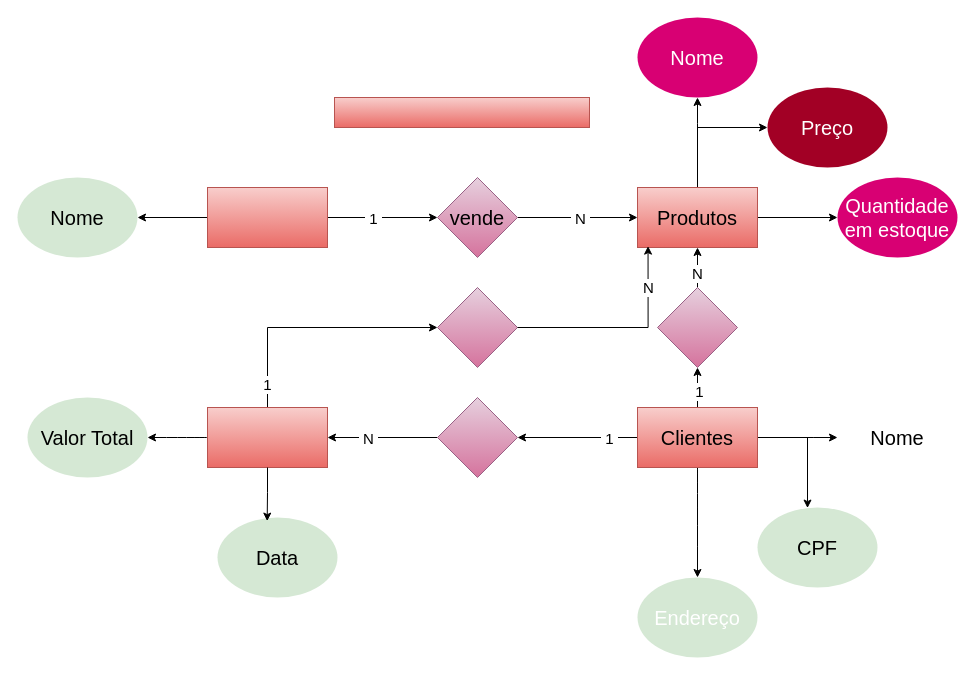
Image size: 974x674. Some labels were removed from this diagram. The shapes that lost their labels are listed below. From the top down, each one's centre as x and y in pixels, then its label:
At point 462,112: "Loja online -modelo logico".
At point 267,217: "Loja".
At point 477,327: "Tem".
At point 697,327: "Compra".
At point 267,437: "Compras".
At point 477,437: "Faz".
